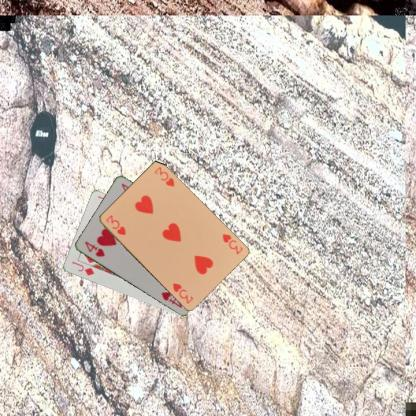3h: (219, 231, 244, 255), (103, 212, 126, 236)
4h: (82, 239, 106, 258)
Jd: (70, 258, 96, 277)
